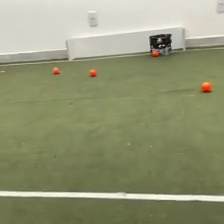ball: (200, 79, 212, 93), (88, 67, 97, 77), (151, 48, 159, 57), (52, 66, 60, 75)
goal: (65, 24, 187, 63)
robot: (148, 32, 174, 56)
